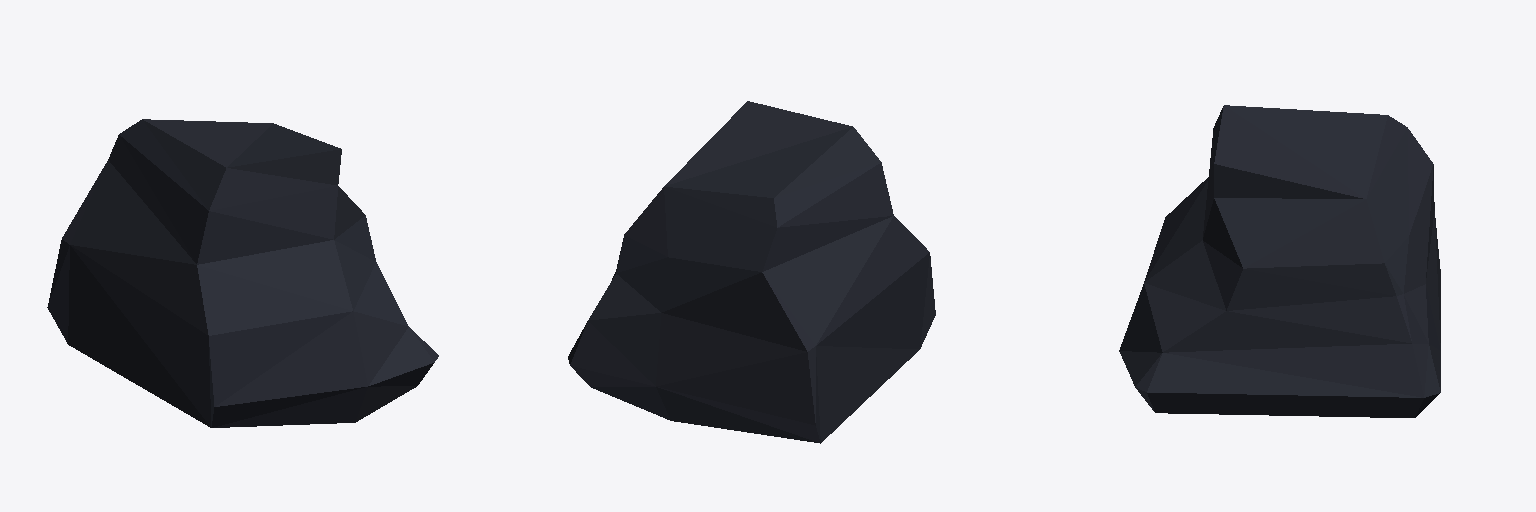
The model's file is Rock3.obj.
3 views of the same model, side by side, from view 1: azimuth 30°, elevation 25°; view 2: azimuth 150°, elevation 25°; view 3: azimuth 270°, elevation 25° (orthographic).
Visible parts, largest first — view 1: Rock_3_Cube.017; view 2: Rock_3_Cube.017; view 3: Rock_3_Cube.017.
Part boxes in pixels (left/top/right/bottom): Rock_3_Cube.017: left=47, top=119, right=438, bottom=427; Rock_3_Cube.017: left=568, top=101, right=935, bottom=443; Rock_3_Cube.017: left=1119, top=105, right=1440, bottom=417.
Size of the model in its own units: 0.7384 by 0.676 by 0.8026.